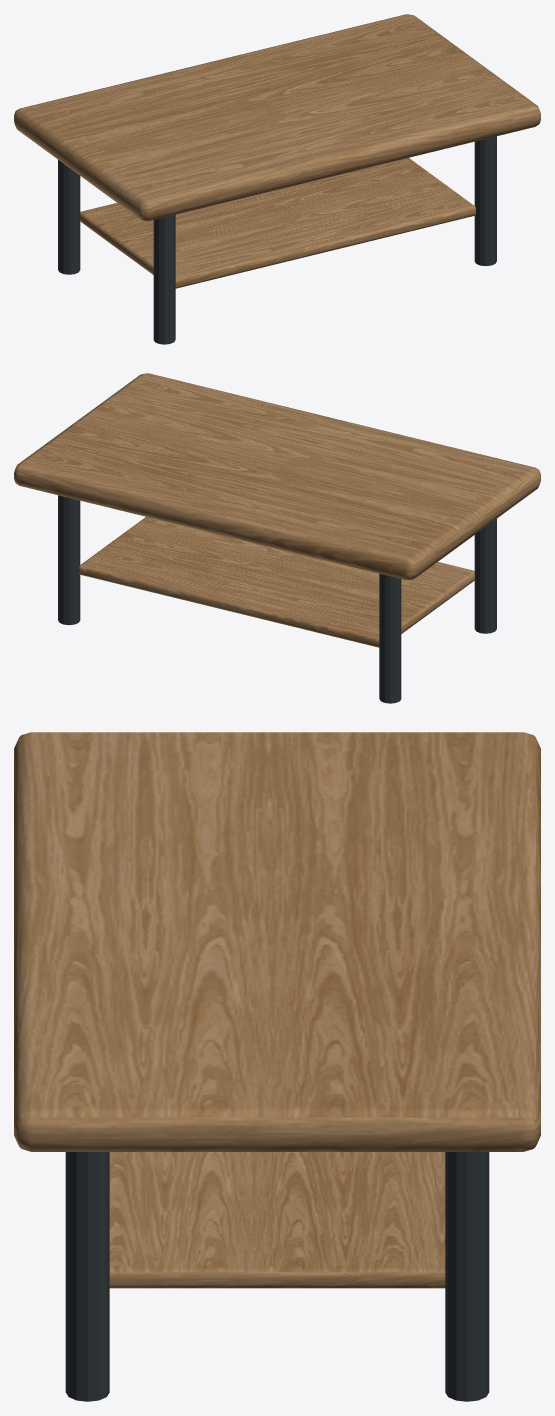
Rendered from centre_table_black.glb.
3 views of the same model, one above another, from view 1: azimuth 30°, elevation 25°; view 2: azimuth 150°, elevation 25°; view 3: azimuth 270°, elevation 25° (orthographic). The views are drawn at different scales.
Parts seen in each view (by area): view 1: tabletop, magazine shelf, table leg, table leg.002, table leg.001; view 2: tabletop, magazine shelf, table leg.001, table leg.003, table leg; view 3: tabletop, magazine shelf, table leg.002, table leg.003.
Part boxes in pixels (x1,y1,x2,y2): tabletop: (14,14,540,220); magazine shelf: (80,158,475,288); table leg: (153,214,175,344); table leg.002: (474,136,496,266); table leg.001: (58,160,80,274); tabletop: (14,373,540,579); magazine shelf: (79,517,474,647); table leg.001: (379,573,401,703); table leg.003: (58,495,80,625); table leg: (474,519,496,633); tabletop: (14,732,540,1151); magazine shelf: (109,1152,445,1288); table leg.002: (65,1152,109,1401); table leg.003: (445,1152,489,1401).
Bounding box in the file's own units: 1.05 × 0.3975 × 0.6.
Materials: 2 (1 with a texture image).
